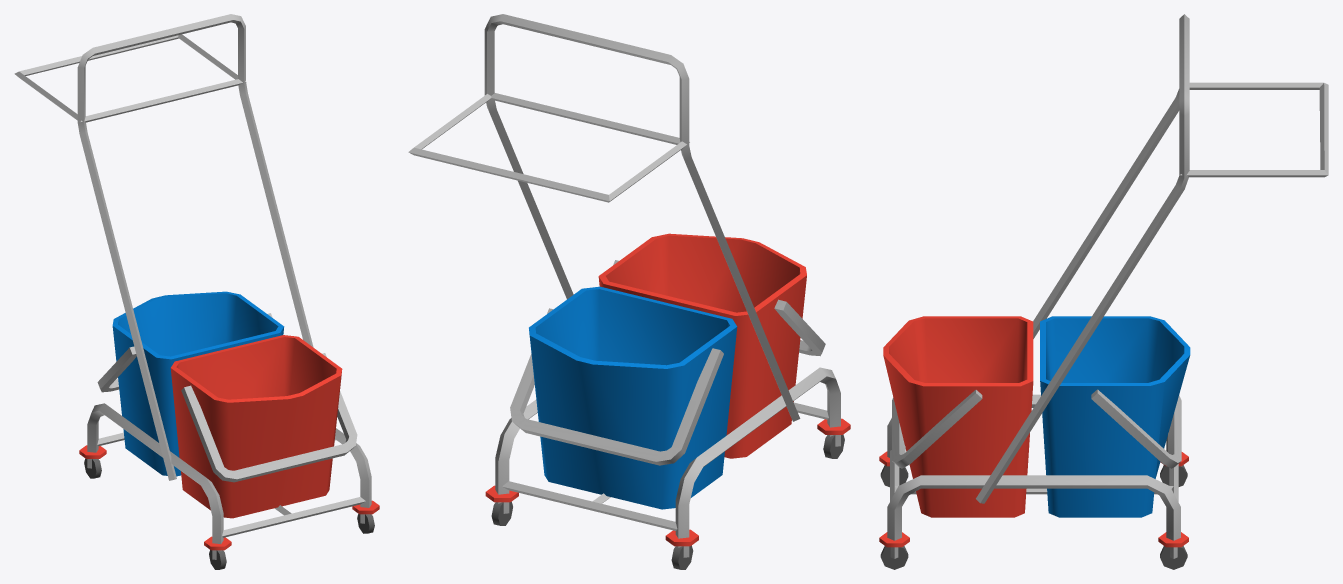
File: warehouse_007.glb
3 renders of one model, left to right at view 1: azimuth 30°, elevation 25°; view 2: azimuth 150°, elevation 25°; view 3: azimuth 270°, elevation 25°, orthographic. The views are drawn at different scales.
Visible parts, largest first — view 1: warehouse_007; view 2: warehouse_007; view 3: warehouse_007.
Boxes of the visible parts, <box> form: warehouse_007: <box>14,14,379,569</box>; warehouse_007: <box>408,14,850,569</box>; warehouse_007: <box>879,14,1328,569</box>.
Bounding box in the file's own units: 0.6054 × 1.46 × 1.25.
1 material, 1 textured.
